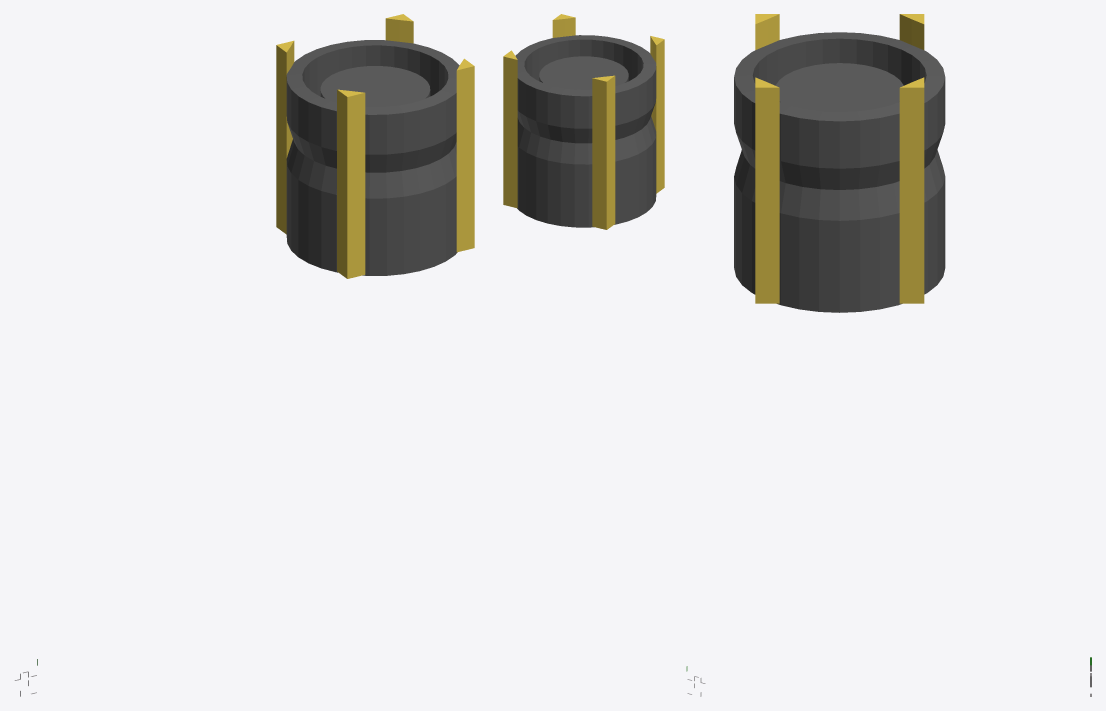
File: aparato2color.fbx
3 views of the same model, side by side, from view 1: azimuth 30°, elevation 25°; view 2: azimuth 150°, elevation 25°; view 3: azimuth 270°, elevation 25° (orthographic). The views are drawn at different scales.
Parts seen in each view (by area): view 1: Cylinder.004, Cube.011; view 2: Cylinder.004, Cube.011; view 3: Cylinder.004, Cube.011.
Part boxes in pixels (x1,y1,x2,y2): Cylinder.004: (286,40,459,275); Cube.011: (276,14,474,278); Cylinder.004: (515,35,656,227); Cube.011: (503,14,664,229); Cylinder.004: (734,32,945,312); Cube.011: (755,14,924,303).
Size of the model in its own units: 181 by 342 by 142.
